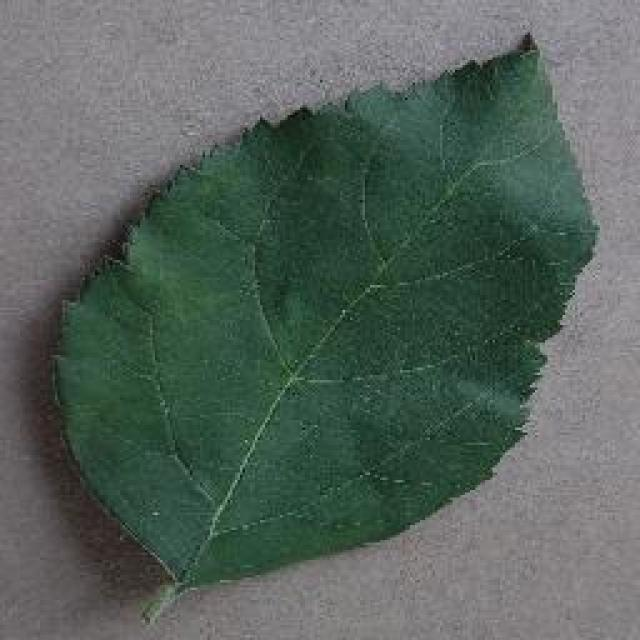apple healthy: (48, 28, 600, 622)
